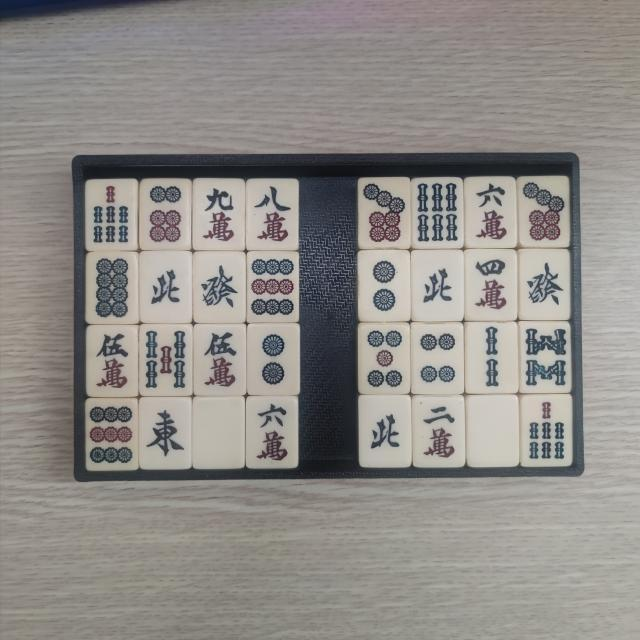hdg: (522, 253, 566, 316), (198, 256, 240, 318)
hdw: (472, 399, 514, 462), (198, 404, 239, 466)
hwe: (144, 403, 186, 464)
hwn: (364, 399, 406, 462), (143, 256, 186, 317), (418, 254, 460, 316)
sb2: (470, 326, 515, 390)
sb5: (147, 328, 191, 393)
sb6: (415, 182, 460, 244)
sb7: (90, 183, 134, 246), (526, 398, 568, 462)
sb8: (523, 326, 567, 390)
sc2: (419, 400, 462, 463)
sc4: (471, 255, 513, 318)
sc5: (199, 327, 242, 391), (90, 330, 134, 392)
sc6: (469, 182, 512, 244), (252, 402, 293, 466)
sc8: (252, 182, 294, 245)
sc9: (197, 184, 240, 248)
sd2: (362, 254, 406, 318), (253, 329, 296, 392)
sd4: (416, 326, 460, 389)
sd5: (364, 327, 407, 390)
sd6: (144, 183, 186, 246)
sd7: (362, 181, 408, 245), (521, 180, 566, 243)
sd8: (90, 256, 134, 322)
sd9: (87, 403, 133, 468), (252, 256, 298, 319)
